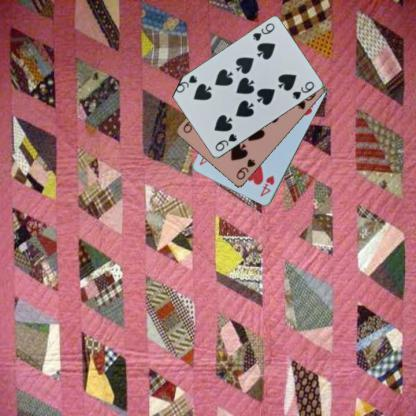4h: (258, 174, 276, 198)
9s: (233, 156, 258, 182), (250, 21, 276, 43), (213, 131, 238, 153)
